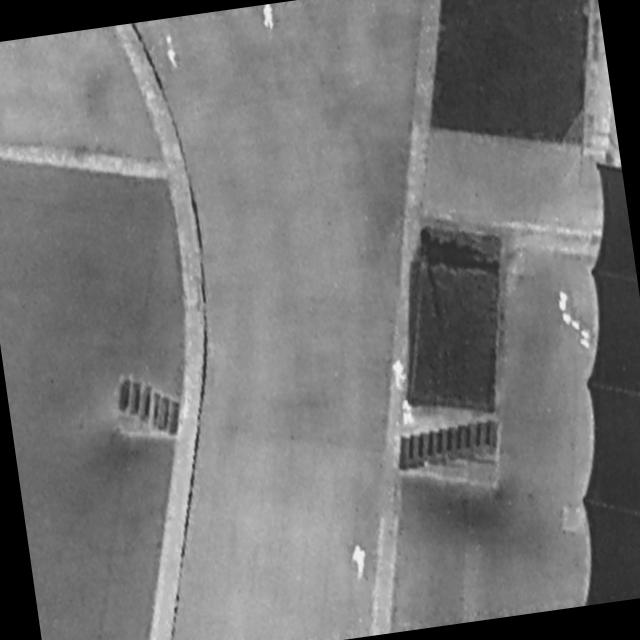person: (348, 541, 372, 584), (162, 33, 184, 71), (390, 356, 409, 392), (400, 399, 416, 431), (263, 5, 278, 30)
